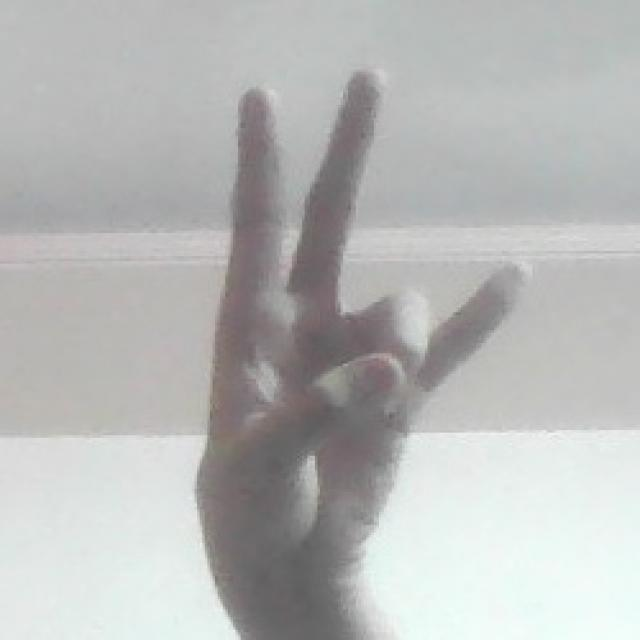Numeric-7: (204, 64, 532, 584), (559, 496, 560, 499)
